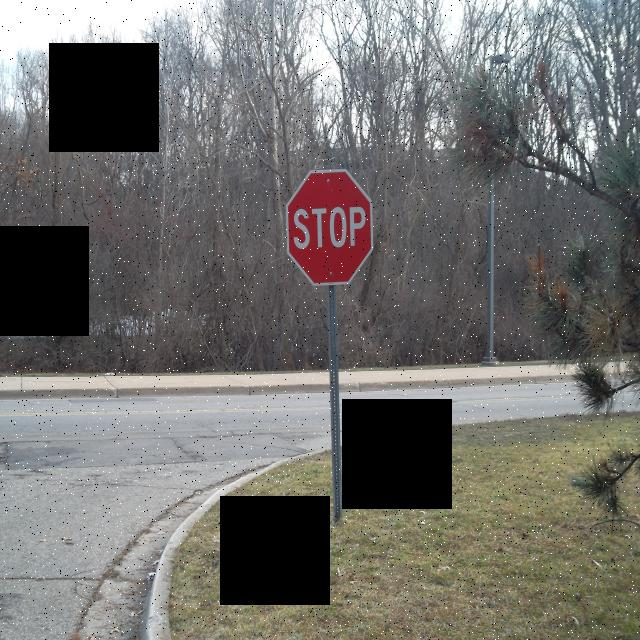stop: (283, 168, 374, 289)
